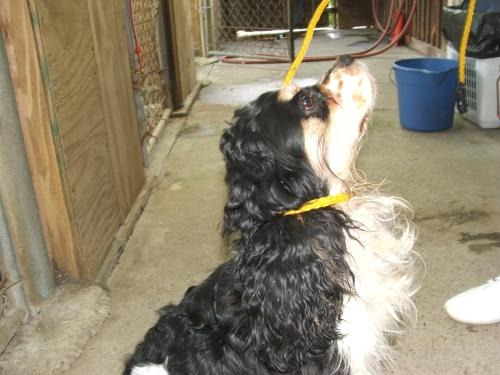dog: (146, 64, 420, 375)
